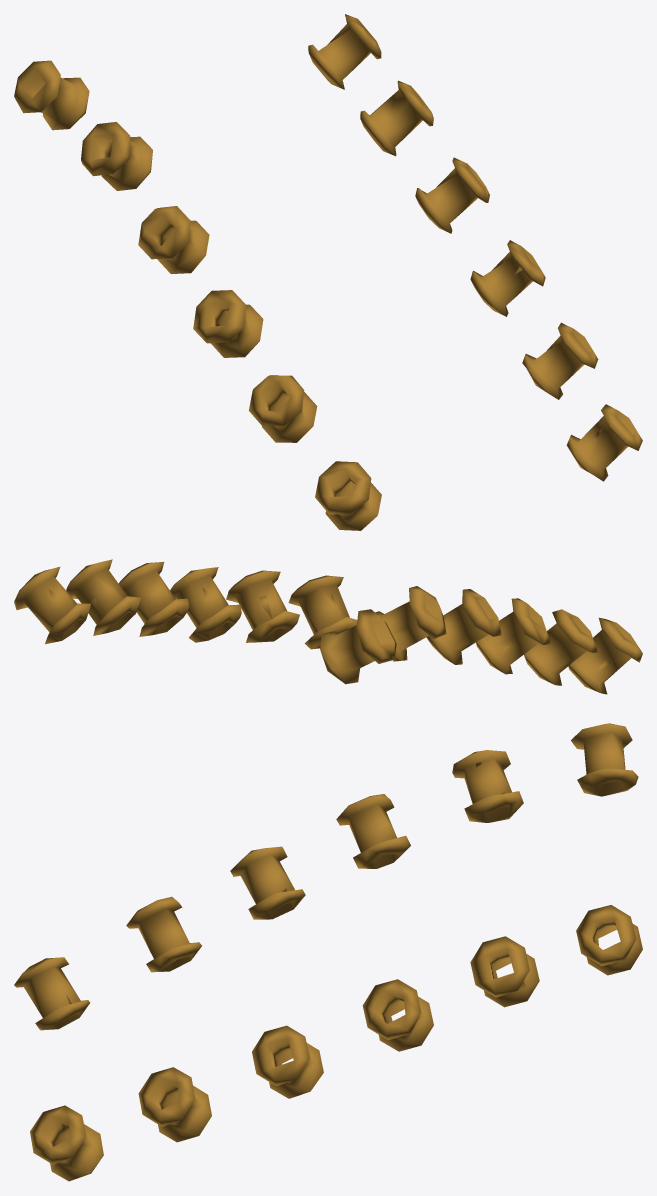
Rendered from rivet.obj.
3 views of the same model, one above another, from view 1: azimuth 30°, elevation 25°; view 2: azimuth 150°, elevation 25°; view 3: azimuth 270°, elevation 25° (orthographic). The views are drawn at different scales.
Parts seen in each view (by area): view 1: rivet; view 2: rivet; view 3: rivet.
Part boxes in pixels (bbox=[...]): rivet: bbox=[14, 14, 642, 530]; rivet: bbox=[14, 559, 642, 694]; rivet: bbox=[14, 723, 642, 1181].
Size of the model in its own units: 1.68 by 1.3 by 2.42.
